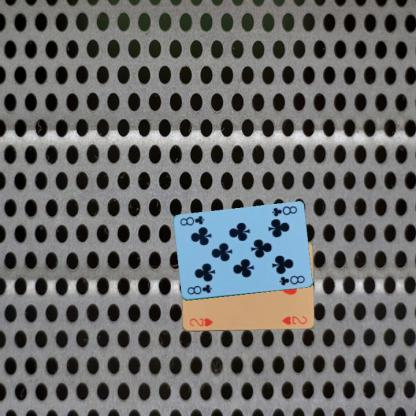2h: (186, 316, 214, 328)
8c: (269, 203, 298, 218), (184, 282, 213, 296)
